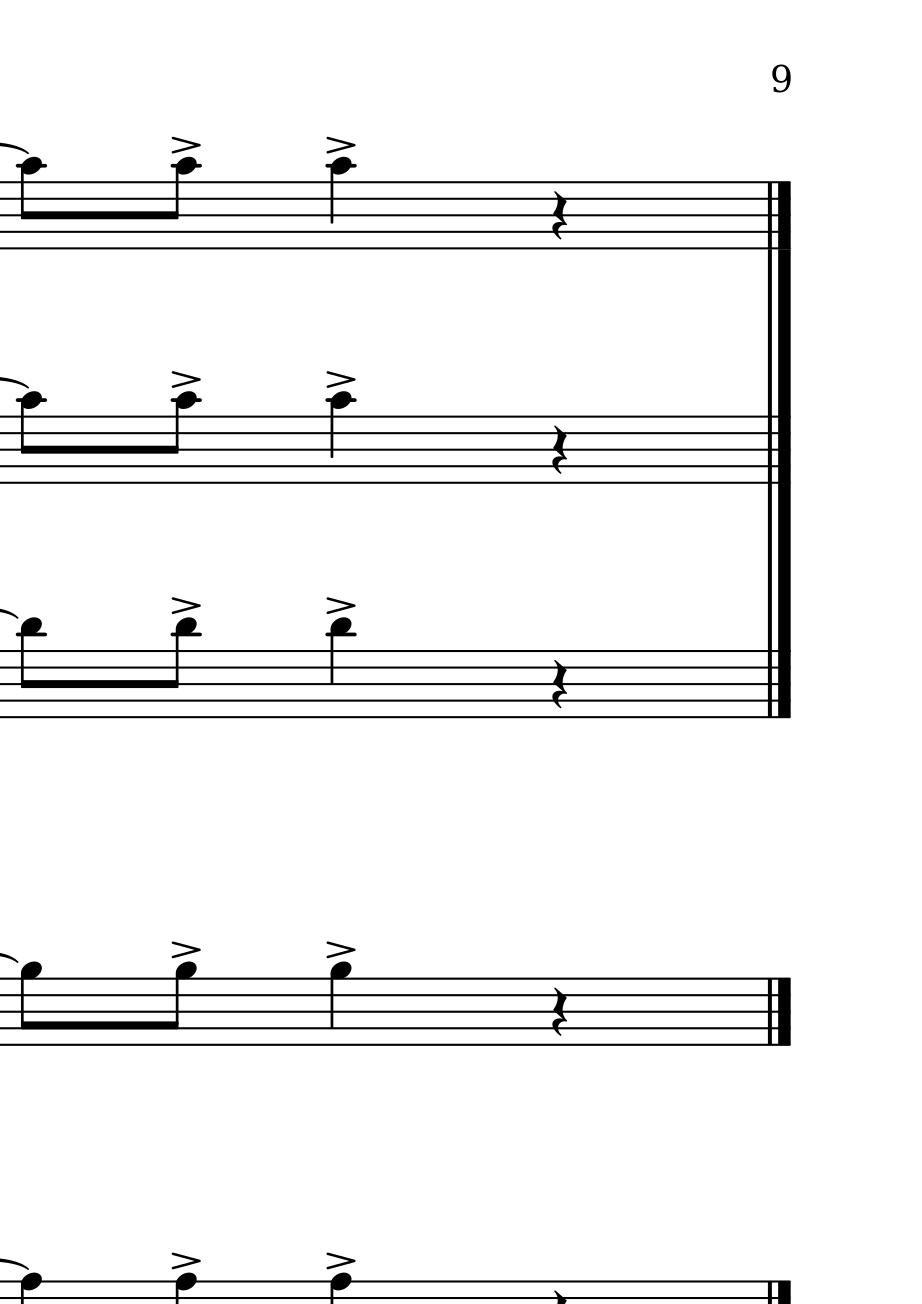4_10: (326, 389, 355, 486), (326, 156, 355, 252)
4_11: (326, 616, 355, 722)
4_9: (327, 960, 353, 1049)
8_10: (163, 390, 199, 486), (164, 155, 199, 252), (17, 390, 46, 485), (17, 156, 45, 251)
8_11: (161, 616, 199, 722), (16, 616, 46, 721)
8_9: (164, 961, 198, 1049), (17, 960, 44, 1049)
9: (770, 60, 792, 95)
Accent_above: (170, 133, 202, 156), (325, 133, 357, 155), (170, 1250, 202, 1272), (324, 594, 357, 615), (169, 595, 202, 616), (169, 369, 203, 389), (323, 939, 357, 959), (325, 1250, 357, 1270), (323, 371, 357, 389), (170, 940, 202, 959)
Final_barline: (761, 179, 793, 249), (760, 414, 792, 483), (762, 976, 793, 1045), (761, 649, 791, 717)
Rests4: (548, 658, 570, 713), (549, 189, 570, 244), (549, 424, 570, 479), (549, 986, 570, 1040)
